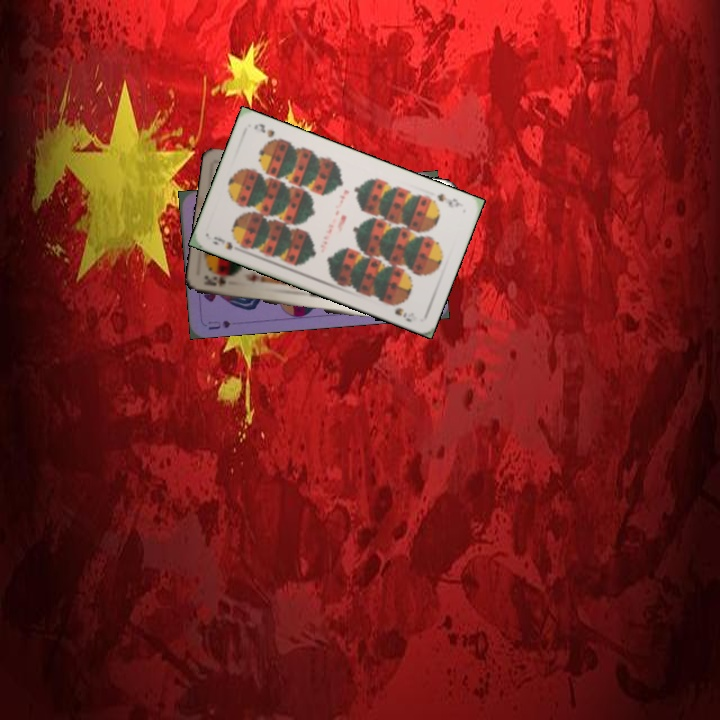S9: (433, 189, 465, 210), (208, 232, 235, 252)
SK: (200, 271, 228, 289)
SU: (204, 316, 233, 332)
